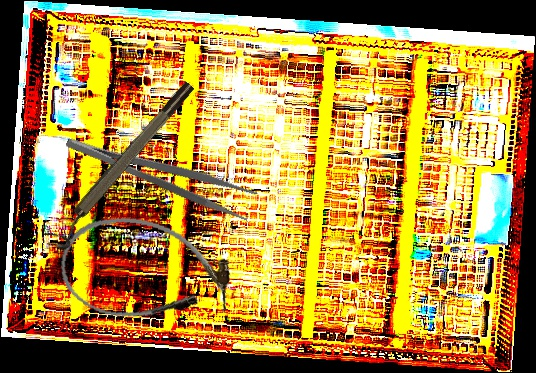Cannula: (52, 206, 240, 336)
Dressing Forceps: (63, 117, 259, 225)
Fixation Ring: (42, 78, 205, 253)
